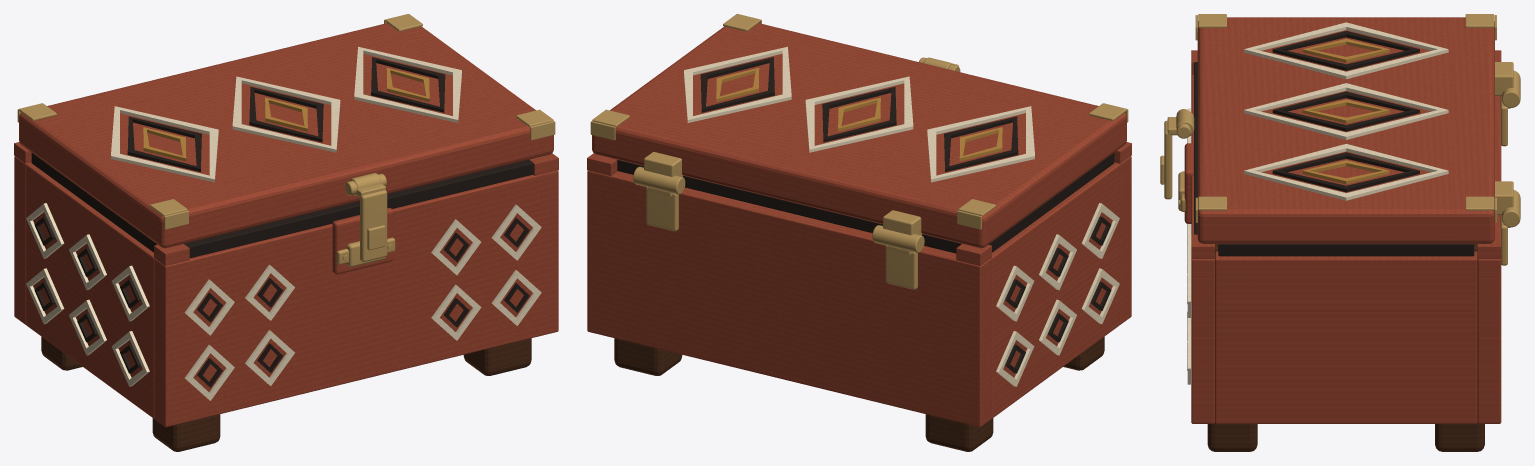
The model's file is rwanda.glb.
3 renders of one model, left to right at view 1: azimuth 30°, elevation 25°; view 2: azimuth 150°, elevation 25°; view 3: azimuth 270°, elevation 25°, orthographic. The views are drawn at different scales.
Parts seen in each view (by area): view 1: Lid / polished slab, Earth / wall, Earth / side, Dark seam / long, Lid relief / diamond.003, Lid relief / diamond, Lid relief / diamond.006, Earth / wall.001, Dark wood foot, Dark wood foot.002, Latch / lifting hasp, Earth / clasp seat (+23 smaller); view 2: Earth / wall.001, Lid / polished slab, Earth / side, Dark seam / long.001, Lid relief / diamond.003, Lid relief / diamond, Lid relief / diamond.006, Earth / wall, Dark wood foot.001, Dark wood foot.003, Dark seam / side, Lid relief / diamond.001 (+20 smaller); view 3: Lid / polished slab, Earth / side.001, Earth / wall.001, Earth / wall, Dark seam / side.001, Lid relief / diamond, Lid relief / diamond.006, Lid relief / diamond.003, Lid relief / diamond.001, Lid relief / diamond.004, Lid relief / diamond.007, Dark wood foot.002 (+17 smaller).
Boxes of the visible parts, x1,y1,x2,y2 form: Lid / polished slab: (19, 23, 553, 248); Earth / wall: (154, 170, 558, 427); Earth / side: (26, 163, 154, 418); Dark seam / long: (184, 159, 533, 258); Lid relief / diamond.003: (232, 76, 340, 152); Lid relief / diamond: (111, 106, 218, 182); Lid relief / diamond.006: (354, 46, 461, 122); Earth / wall.001: (14, 156, 31, 324); Dark wood foot: (152, 414, 220, 451); Dark wood foot.002: (463, 338, 531, 375); Latch / lifting hasp: (360, 190, 387, 261); Earth / clasp seat: (332, 208, 393, 274); Earth / wall.001: (587, 170, 991, 427); Lid / polished slab: (592, 23, 1126, 248); Earth / side: (991, 163, 1119, 418); Dark seam / long.001: (617, 159, 961, 253); Lid relief / diamond.003: (805, 76, 913, 152); Lid relief / diamond: (927, 106, 1034, 182); Lid relief / diamond.006: (684, 46, 791, 122); Earth / wall: (1114, 156, 1131, 324); Dark wood foot.001: (925, 414, 993, 451); Dark wood foot.003: (614, 338, 682, 375); Dark seam / side: (988, 153, 1114, 252); Lid relief / diamond.001: (944, 116, 1018, 172); Lid / polished slab: (1197, 17, 1494, 243); Earth / side.001: (1215, 251, 1477, 423); Earth / wall.001: (1477, 95, 1501, 423); Earth / wall: (1191, 74, 1214, 423); Dark seam / side.001: (1218, 244, 1474, 256); Lid relief / diamond: (1244, 22, 1448, 79); Lid relief / diamond.006: (1244, 144, 1448, 200); Lid relief / diamond.003: (1244, 83, 1448, 139); Lid relief / diamond.001: (1272, 31, 1419, 70); Lid relief / diamond.004: (1272, 91, 1419, 131); Lid relief / diamond.007: (1272, 152, 1419, 192); Dark wood foot.002: (1207, 423, 1257, 451).
Bounding box in the file's own units: 3.75 × 2.25 × 2.88.
6 materials, 3 textured.
